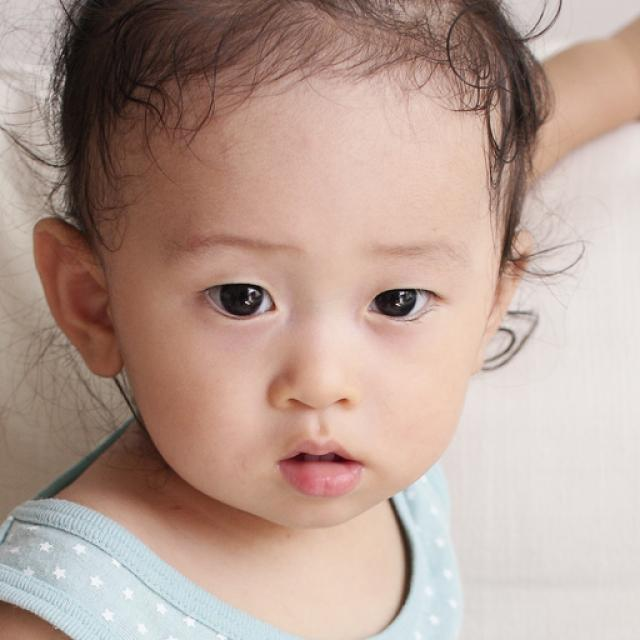neutral: (122, 21, 506, 532)
